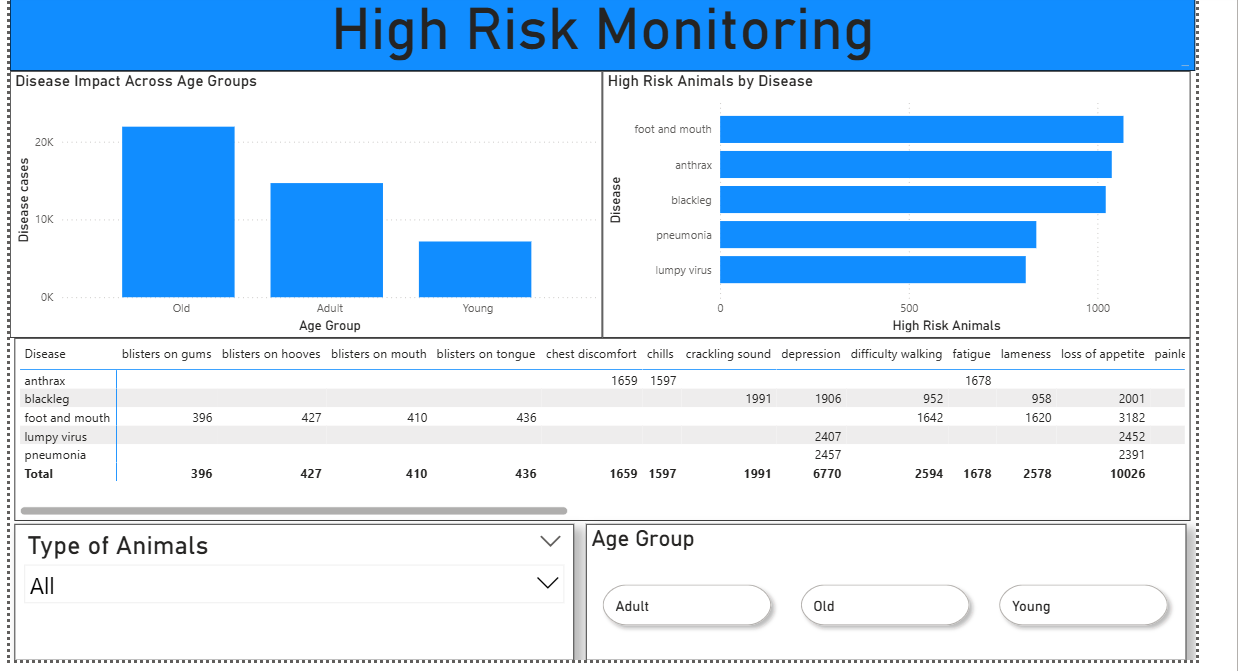

The page's visual inventory and layout, read from the dashboard file:
{"tool":"powerbi","page":{"name":"Page 2","canvas":[1280,720],"ordinal":1},"visuals":[{"type":"columnChart","title":"Disease Impact Across Age Groups","fields":{"Category":["animal_disease_dataset.Age Group"],"Y":["animal_disease_dataset.Disease cases"]},"box":[0,84.2,639.6,288.2],"z":0},{"type":"barChart","fields":{"Category":["animal_disease_dataset.Disease"],"Y":["animal_disease_dataset.High Risk Animals"]},"box":[639.6,84.2,634.7,288.2],"z":1000},{"type":"textbox","title":"High Risk Monitoring","box":[0,0,1279.2,84.2],"z":2000},{"type":"pivotTable","fields":{"Rows":["animal_disease_dataset.Disease"],"Columns":["uniquesym1.Symptoms"],"Values":["CountNonNull(animal_disease_dataset.Animal)"]},"box":[4.9,372.4,1269.5,197.5],"z":3000},{"type":"slicer","fields":{"Values":["animal_disease_dataset.Animal"]},"box":[4.9,573.2,604,147.3],"z":4000},{"type":"advancedSlicerVisual","fields":{"Values":["animal_disease_dataset.Age Group"]},"box":[621.8,573.2,647.7,147.3],"z":5000}]}

Visuals, with their boxes in screenshot pixels (x1, y1, x2, y2):
"Disease Impact Across Age Groups" columnChart: [23, 71, 610, 336]
barChart - animal_disease_dataset.Disease x animal_disease_dataset.High Risk Animals: [610, 71, 1193, 336]
"High Risk Monitoring" textbox: [23, 0, 1198, 71]
pivotTable - animal_disease_dataset.Disease x uniquesym1.Symptoms: [27, 336, 1193, 517]
slicer - animal_disease_dataset.Animal: [27, 520, 582, 655]
advancedSlicerVisual - animal_disease_dataset.Age Group: [594, 520, 1189, 655]
